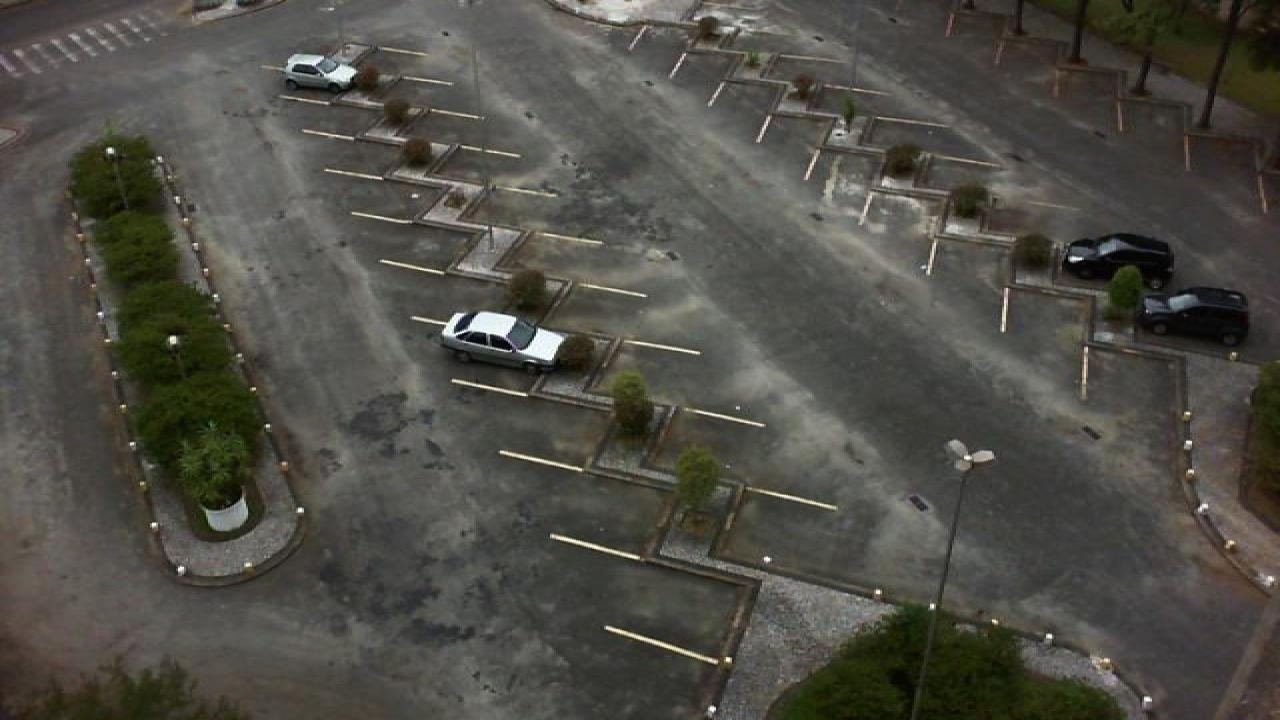Car: (436, 310, 570, 374), (1136, 286, 1254, 342), (1060, 231, 1176, 284), (282, 53, 358, 92)
